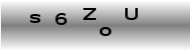6: (53, 12, 68, 26)
U: (122, 6, 139, 21)
Z: (80, 6, 97, 21)
o: (98, 25, 111, 37)
s: (28, 12, 40, 24)
